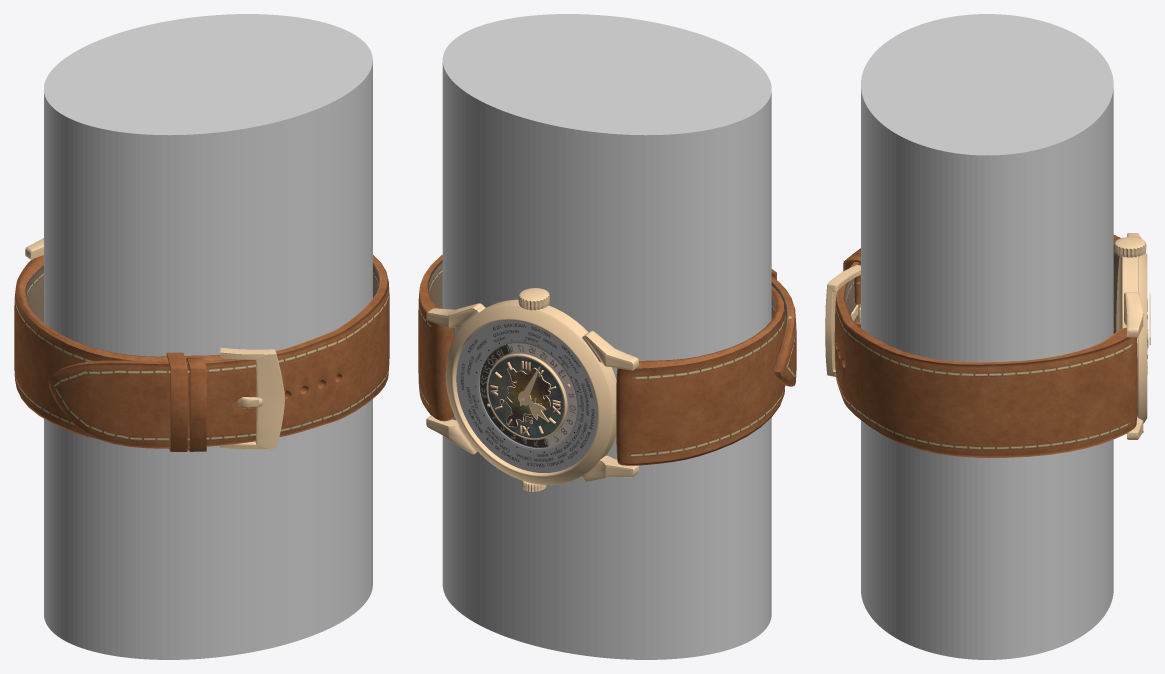
File: watch.glb
3 renders of one model, left to right at view 1: azimuth 30°, elevation 25°; view 2: azimuth 150°, elevation 25°; view 3: azimuth 270°, elevation 25°, orthographic. The views are drawn at different scales.
Parts seen in each view (by area): view 1: Body, with_uv_Object003; view 2: Body, with_uv_Object003, Object002_watch_0; view 3: Body, with_uv_Object003, Object002_watch_0, Object003_watch_0.
Boxes of the visible parts, left/top/right/bottom form: Body: left=44, top=14, right=372, bottom=659; with_uv_Object003: left=14, top=255, right=389, bottom=451; Body: left=442, top=14, right=771, bottom=659; with_uv_Object003: left=418, top=254, right=796, bottom=491; Object002_watch_0: left=426, top=300, right=638, bottom=481; Body: left=861, top=14, right=1113, bottom=659; with_uv_Object003: left=825, top=235, right=1147, bottom=457; Object002_watch_0: left=1123, top=233, right=1143, bottom=439; Object003_watch_0: left=1116, top=256, right=1123, bottom=331.
Size of what is drawn, in the model's own units: 0.0651 by 0.0997 by 0.0583.
1 material, 1 textured.
